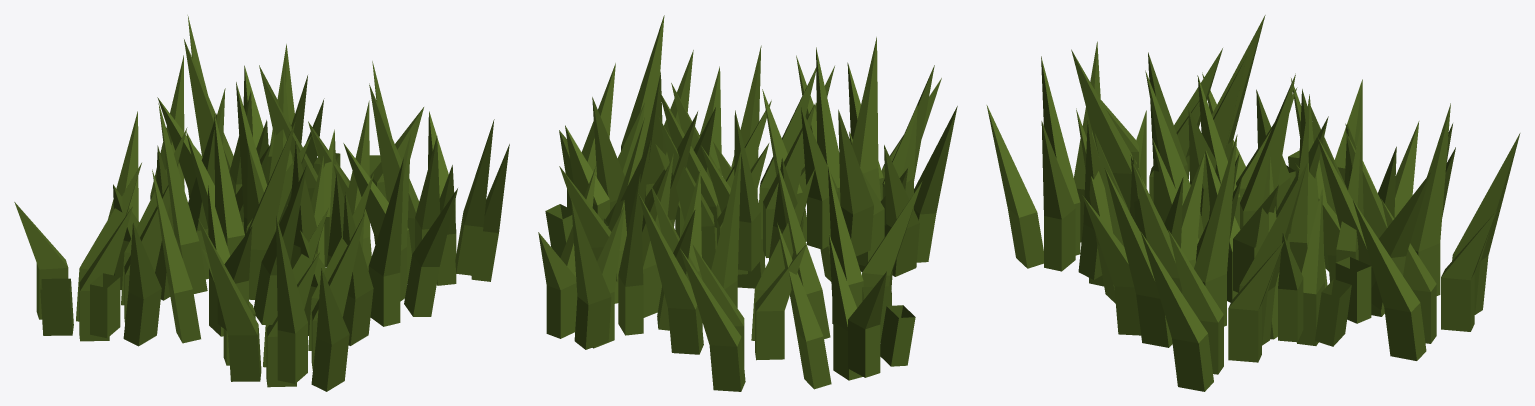
Rendered from PatchOfGrass.fbx.
3 views of the same model, side by side, from view 1: azimuth 30°, elevation 25°; view 2: azimuth 150°, elevation 25°; view 3: azimuth 270°, elevation 25° (orthographic). The views are drawn at different scales.
Parts seen in each view (by area): view 1: Cube; view 2: Cube; view 3: Cube.
Boxes of the visible parts, left/top/right/bottom form: Cube: left=14, top=15, right=509, bottom=391; Cube: left=538, top=15, right=957, bottom=391; Cube: left=986, top=15, right=1520, bottom=391.
Bounding box in the file's own units: 169 × 99.16 × 186.
